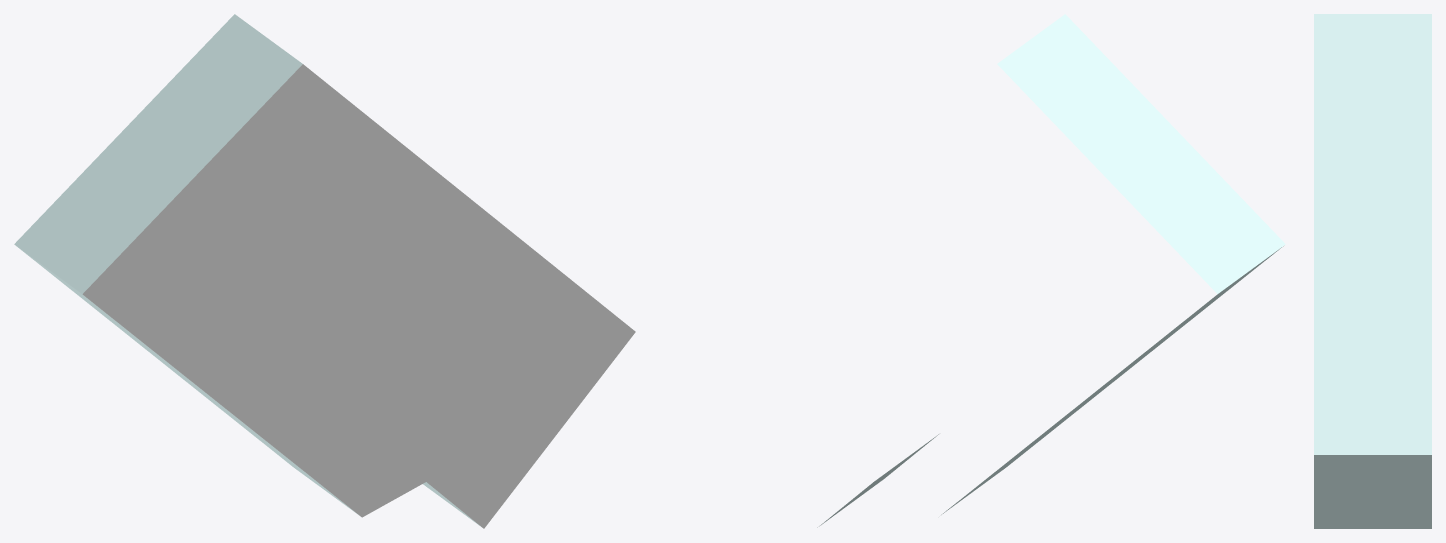
3 renders of one model, left to right at view 1: azimuth 30°, elevation 25°; view 2: azimuth 150°, elevation 25°; view 3: azimuth 270°, elevation 25°, orthographic. The views are drawn at different scales.
Visible parts, largest first — view 1: 0_1_2_1_1_3_1_3; view 2: 0_1_2_1_1_3_1_3; view 3: 0_1_2_1_1_3_1_3.
Part boxes in pixels (x1,y1,x2,y2): 0_1_2_1_1_3_1_3: [14, 14, 635, 528]; 0_1_2_1_1_3_1_3: [817, 14, 1285, 527]; 0_1_2_1_1_3_1_3: [1314, 14, 1431, 528].
Size of the model in its own units: 14.04 by 12.34 by 3.
